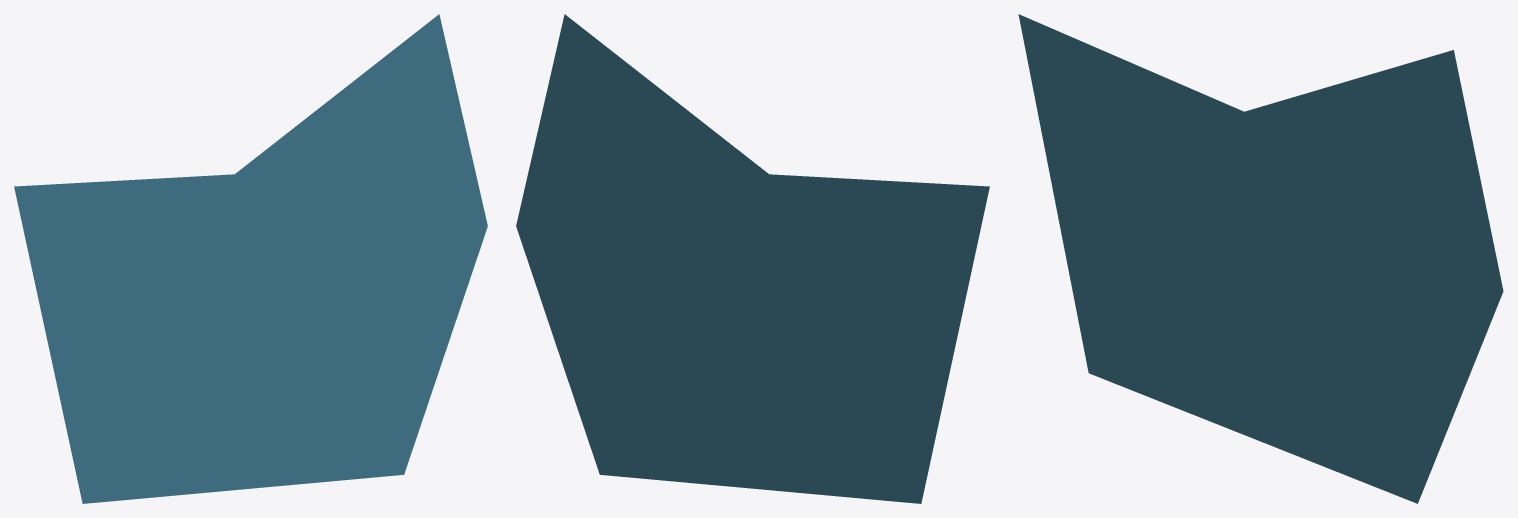
The model's file is NexusA_Cloth_14.fbx.
3 renders of one model, left to right at view 1: azimuth 30°, elevation 25°; view 2: azimuth 150°, elevation 25°; view 3: azimuth 330°, elevation 25°, orthographic. The views are drawn at different scales.
Visible parts, largest first — view 1: pasted__polySurface61; view 2: pasted__polySurface61; view 3: pasted__polySurface61.
Boxes of the visible parts, x1,y1,x2,y2 form: pasted__polySurface61: [14, 14, 487, 503]; pasted__polySurface61: [516, 14, 989, 503]; pasted__polySurface61: [1018, 14, 1503, 503].
Size of the model in its own units: 47.11 by 42.96 by 2.99e-07.
